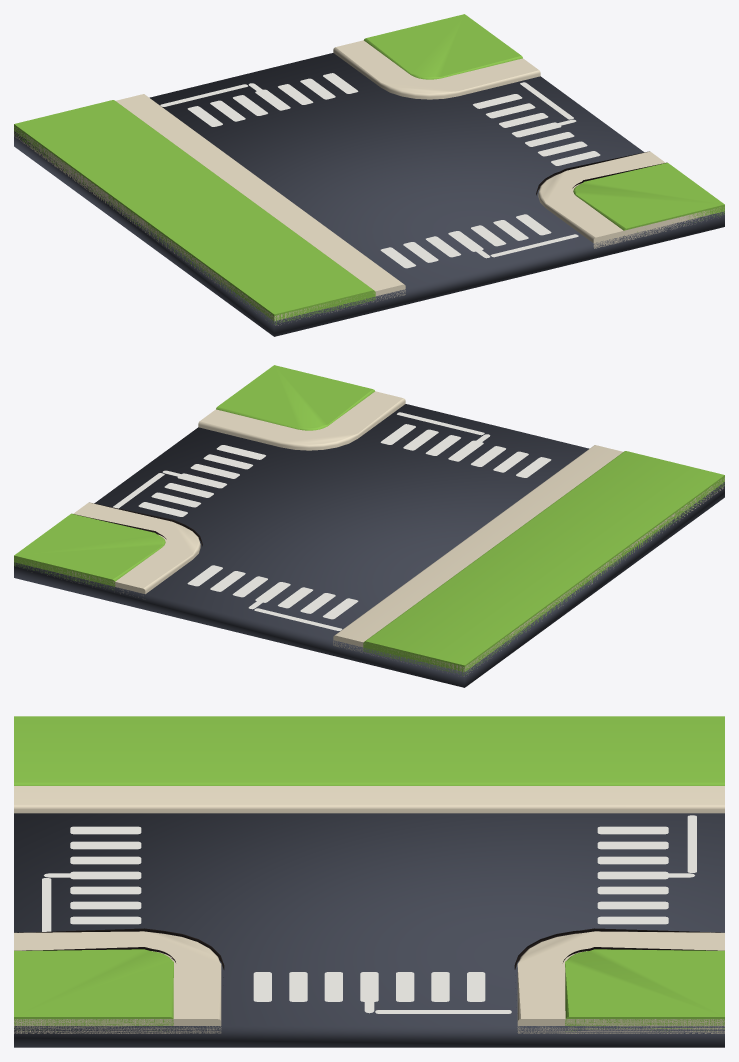
The model's file is Road_T.fbx.
3 renders of one model, top to bottom at view 1: azimuth 30°, elevation 25°; view 2: azimuth 150°, elevation 25°; view 3: azimuth 270°, elevation 25°, orthographic. The views are drawn at different scales.
Parts seen in each view (by area): view 1: Tile_Road_T_Asphalt, Tile_Road_T_Grass, Tile_Road_T_Sidewalk, Tile_Road_T_LineWhite; view 2: Tile_Road_T_Asphalt, Tile_Road_T_Grass, Tile_Road_T_Sidewalk, Tile_Road_T_LineWhite; view 3: Tile_Road_T_Asphalt, Tile_Road_T_Grass, Tile_Road_T_Sidewalk, Tile_Road_T_LineWhite, Tile_Road_T_Outline.
Boxes of the visible parts, <box> form: Tile_Road_T_Asphalt: <box>14,53,724,336</box>; Tile_Road_T_Grass: <box>14,14,724,324</box>; Tile_Road_T_Sidewalk: <box>14,40,723,325</box>; Tile_Road_T_LineWhite: <box>160,73,600,268</box>; Tile_Road_T_Asphalt: <box>14,404,724,687</box>; Tile_Road_T_Grass: <box>14,365,724,675</box>; Tile_Road_T_Sidewalk: <box>22,391,724,676</box>; Tile_Road_T_LineWhite: <box>112,412,551,630</box>; Tile_Road_T_Asphalt: <box>14,813,724,1047</box>; Tile_Road_T_Grass: <box>14,716,724,1031</box>; Tile_Road_T_Sidewalk: <box>14,786,724,1033</box>; Tile_Road_T_LineWhite: <box>42,815,696,1013</box>; Tile_Road_T_Outline: <box>17,928,720,977</box>.
Size of the model in its own units: 24 by 1.22 by 24.
